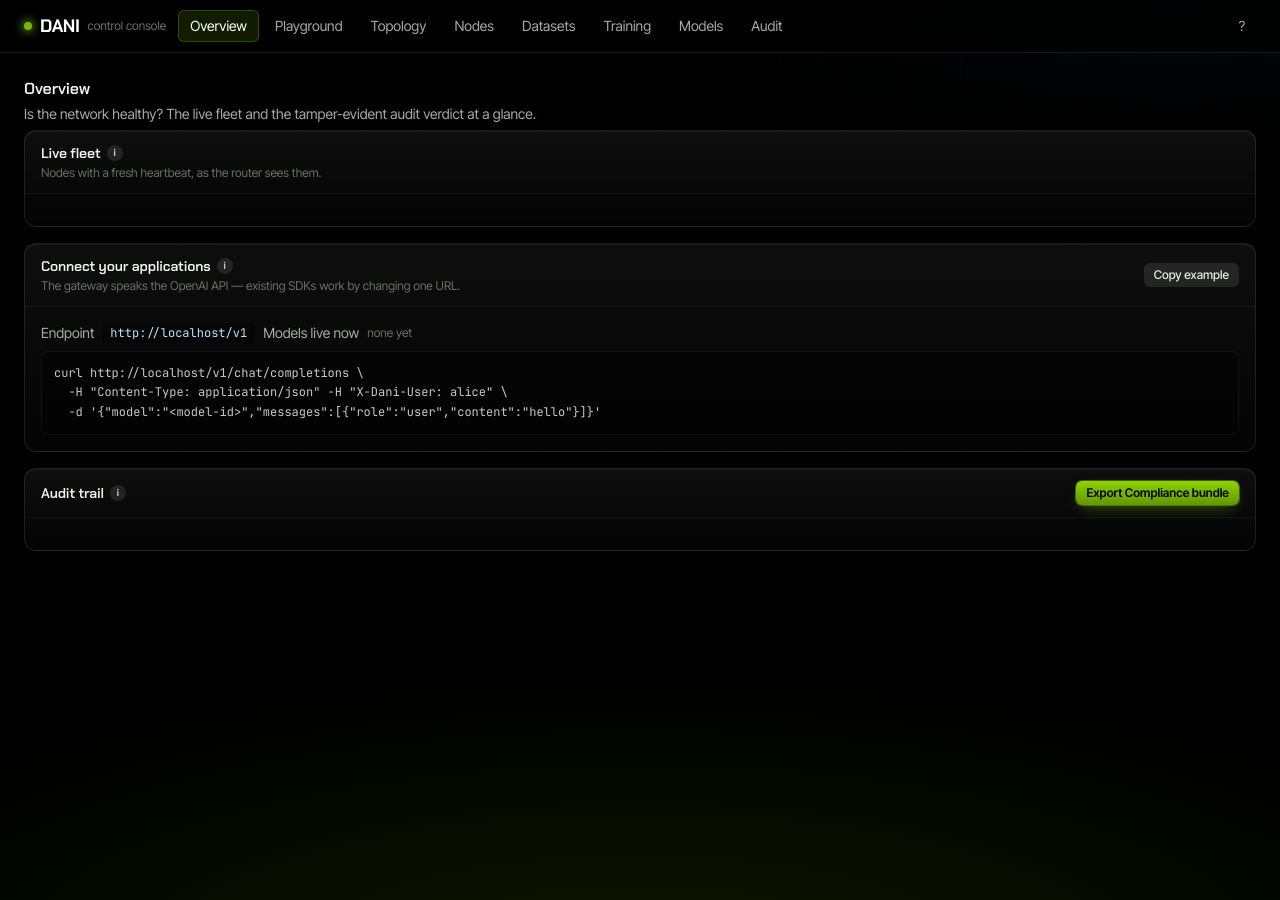
Scenario: DANI console › renders the interactive topology graph
Click the tab "Topology" at (398, 26), box [358, 10, 438, 42]
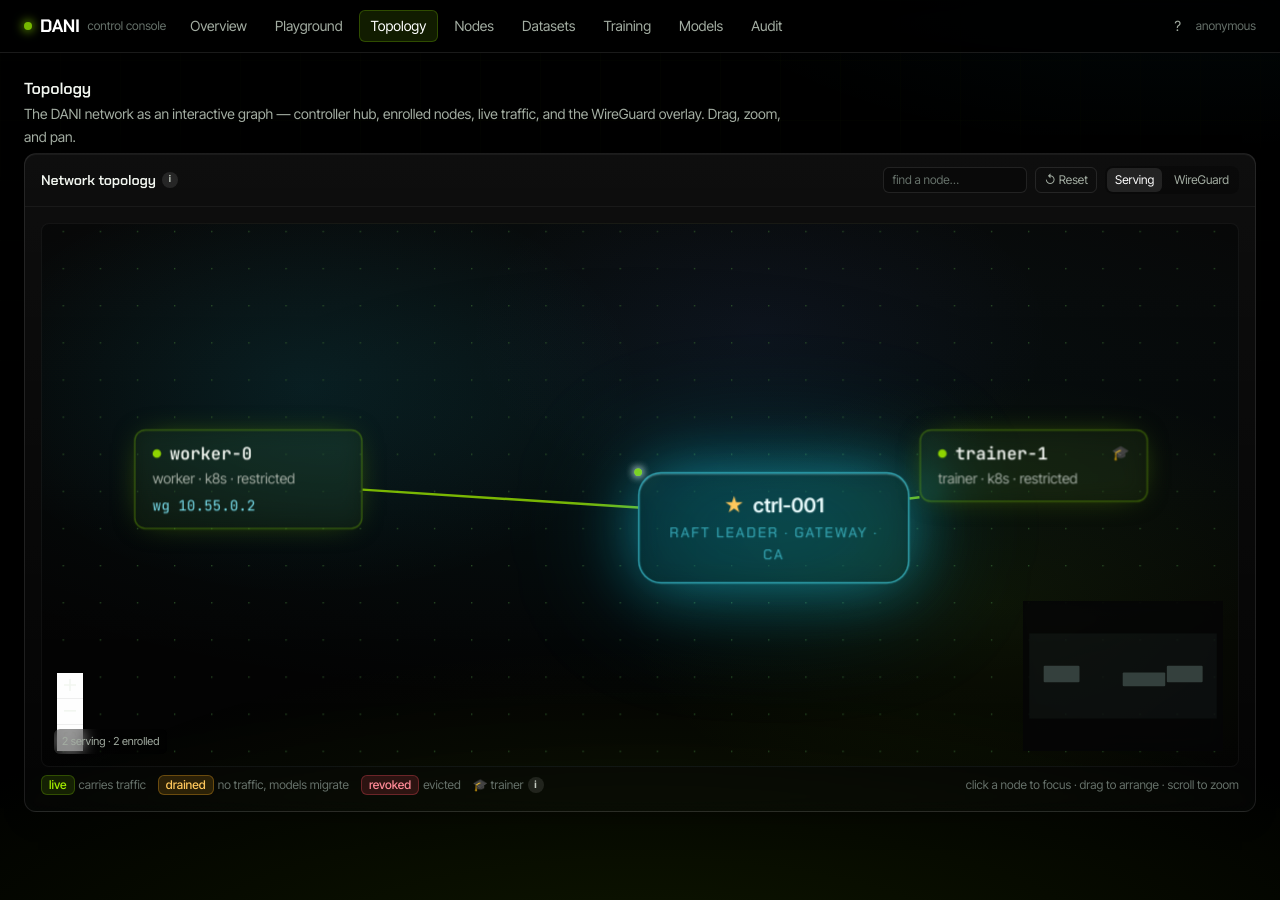
Expected: the heading "Network topology i" is shown, [41, 170, 178, 190]
Expected: the button "WireGuard" is shown, [1166, 168, 1237, 192]
Expected: the text "★ ctrl-001" is shown, [724, 492, 824, 516]
